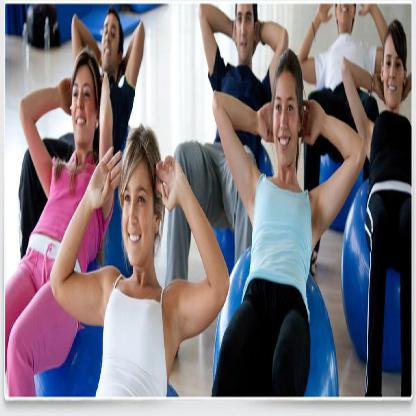face: (124, 160, 155, 267), (274, 74, 300, 166), (72, 66, 96, 144), (384, 36, 404, 109), (102, 14, 120, 69), (237, 8, 255, 62), (338, 1, 355, 28)
